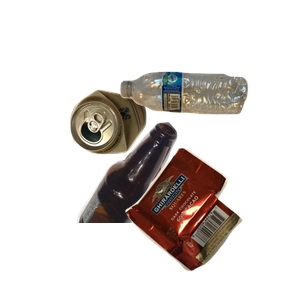glass: (74, 120, 244, 300)
metal: (67, 87, 206, 234)
plastic: (118, 69, 300, 176)
trash: (123, 145, 300, 300)
